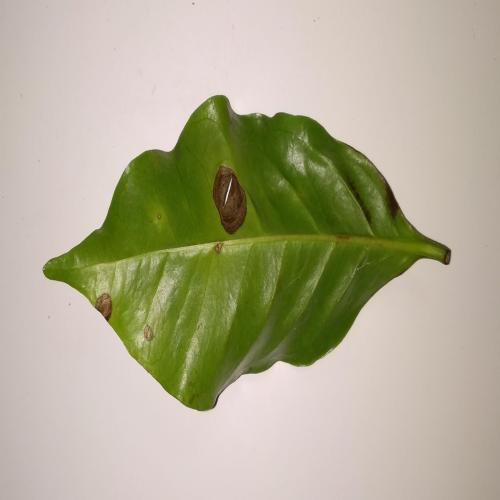leaf: (30, 83, 461, 425)
phoma: (206, 161, 263, 239), (90, 284, 121, 326), (137, 314, 166, 348)
